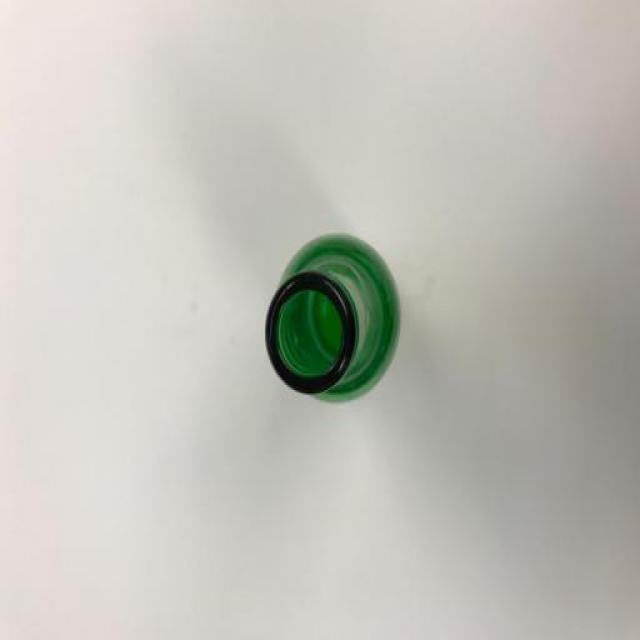glass: (262, 228, 402, 410)
